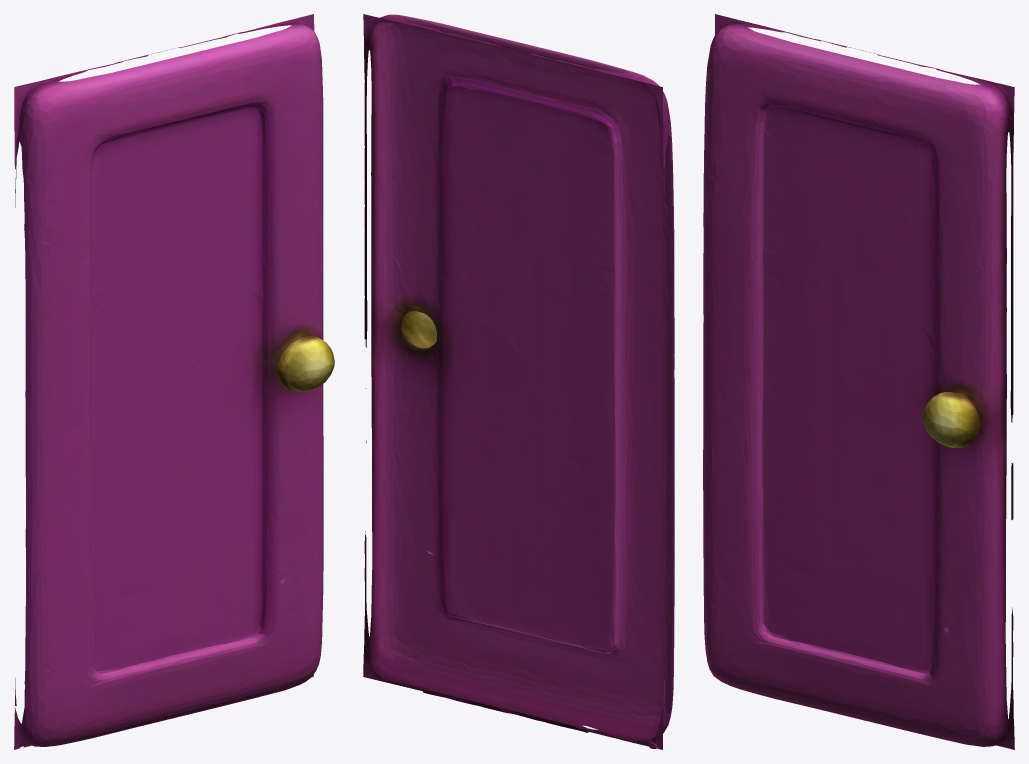
The model's file is door_left.glb.
The picture shows the model from 3 angles, left to right: view 1: azimuth 30°, elevation 25°; view 2: azimuth 150°, elevation 25°; view 3: azimuth 330°, elevation 25°; orthographic projection.
Parts seen in each view (by area): view 1: source_surface_0; view 2: source_surface_0; view 3: source_surface_0.
Part boxes in pixels (x1=…): source_surface_0: x1=14, y1=14, x2=334, y2=749; source_surface_0: x1=363, y1=14, x2=674, y2=749; source_surface_0: x1=703, y1=14, x2=1014, y2=749.
Bounding box in the file's own units: 0.1362 × 0.2879 × 0.0306.
Materials: 1 (1 with a texture image).
